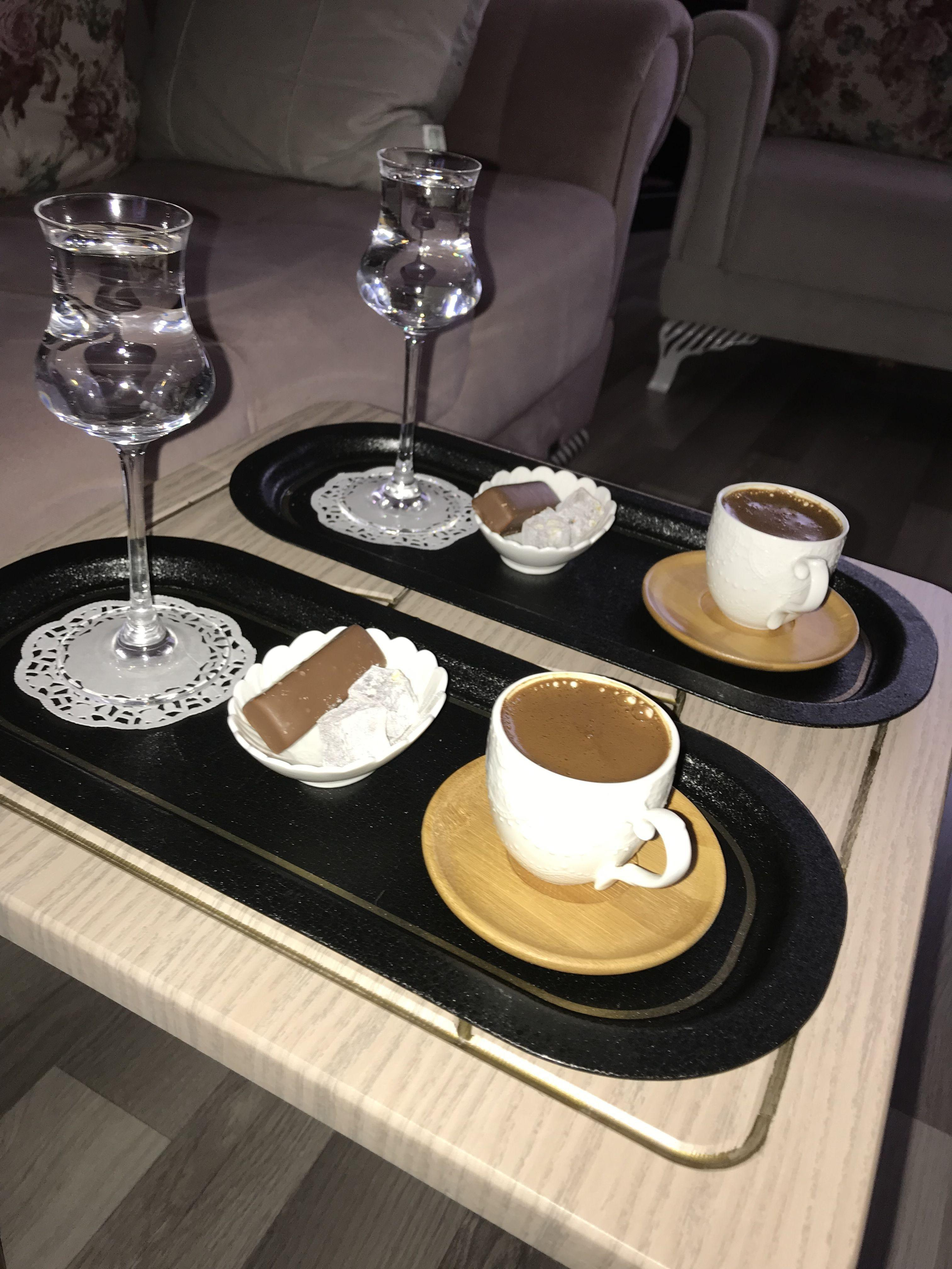cup-handle: (484, 669, 697, 901), (704, 481, 850, 631)
glass-wine: (30, 190, 219, 697), (339, 144, 484, 539)
